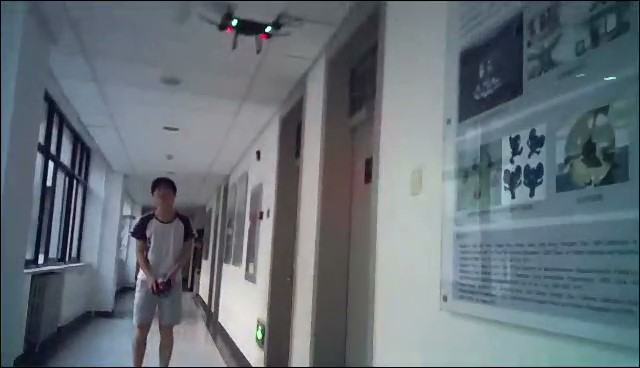drone: (192, 2, 309, 54)
person: (129, 175, 197, 368)
